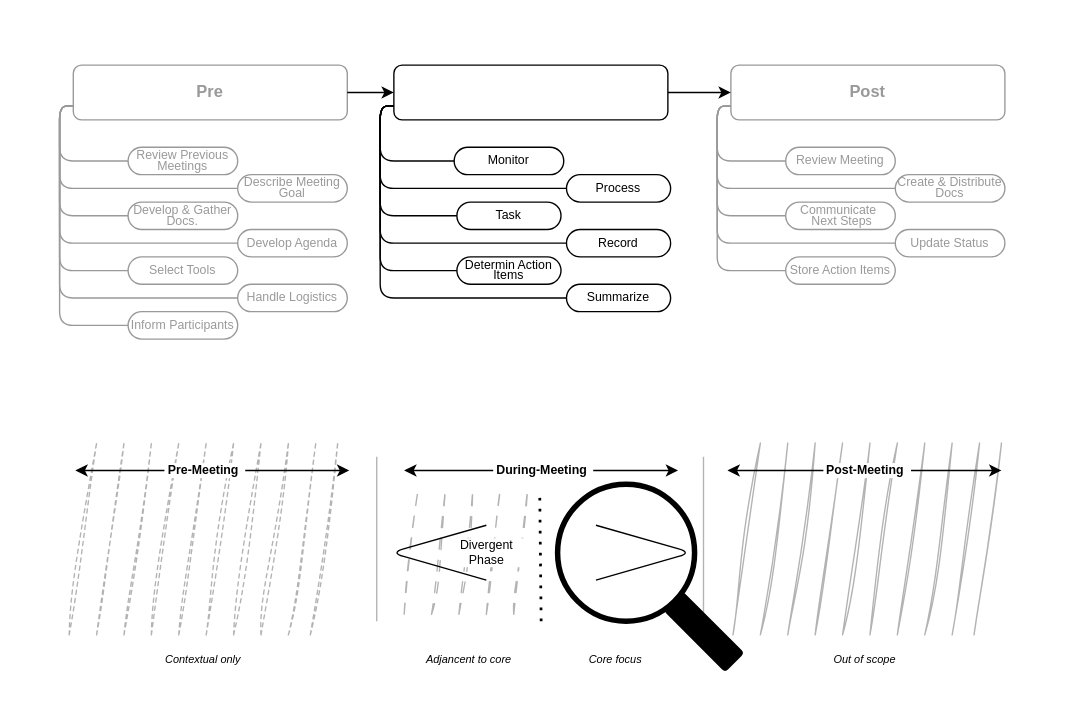
The diagram is 1088 pixels wide and 718 high, and some of its shapes have lost their labels. The centre of each missing label's shape, as x and y in pixels:
Convergent Phase: (625,552)
Meeting: (530,92)
